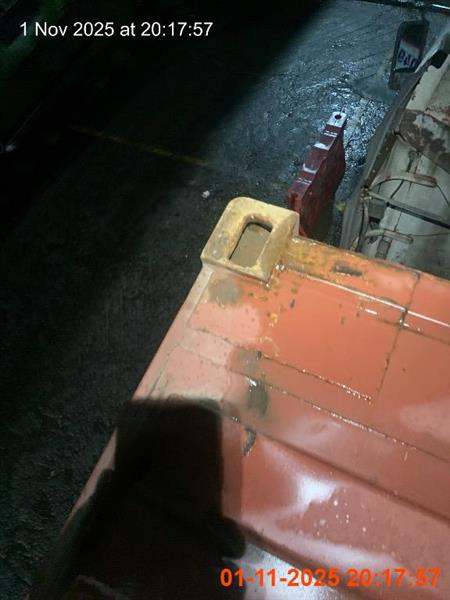broken: (23, 195, 448, 599)
